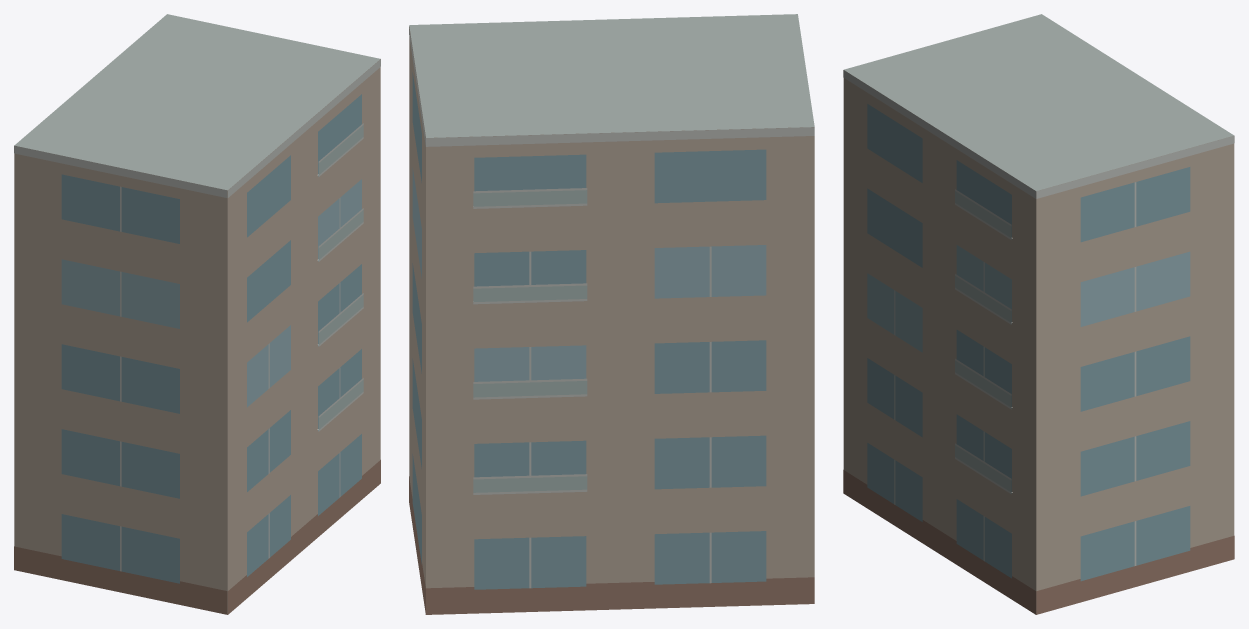
File: survey-upis-32924108.glb
3 views of the same model, side by side, from view 1: azimuth 30°, elevation 25°; view 2: azimuth 150°, elevation 25°; view 3: azimuth 270°, elevation 25° (orthographic). The views are drawn at different scales.
Visible parts, largest first — view 1: survey-upis-32924108.tmp; view 2: survey-upis-32924108.tmp; view 3: survey-upis-32924108.tmp.
Boxes of the visible parts, bbox=[...] form: survey-upis-32924108.tmp: bbox=[14, 14, 380, 614]; survey-upis-32924108.tmp: bbox=[409, 14, 814, 614]; survey-upis-32924108.tmp: bbox=[843, 14, 1234, 614].
Size of the model in its own units: 11.76 by 13.1 by 10.96.
